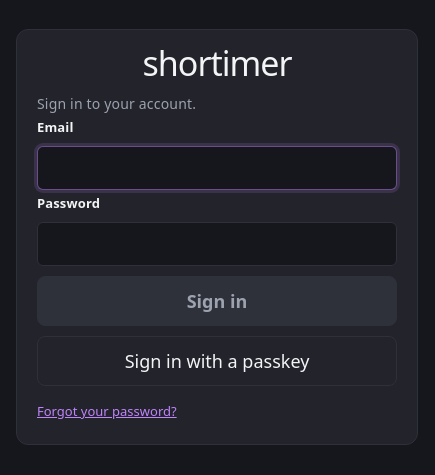
signing in with a passkey › does report a genuine failure
Click the button "Sign in with a passkey" at (217, 361), box [37,336,397,386]
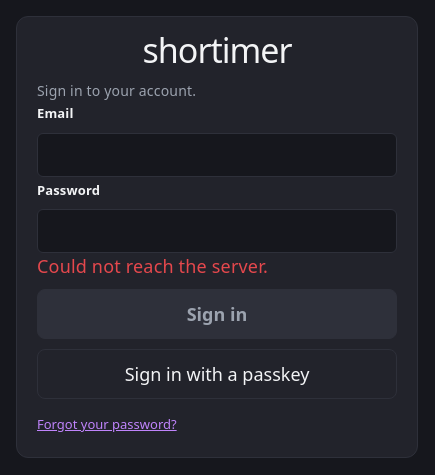
Result: the text "Could not reach the server." is shown at [37,254,268,278]
